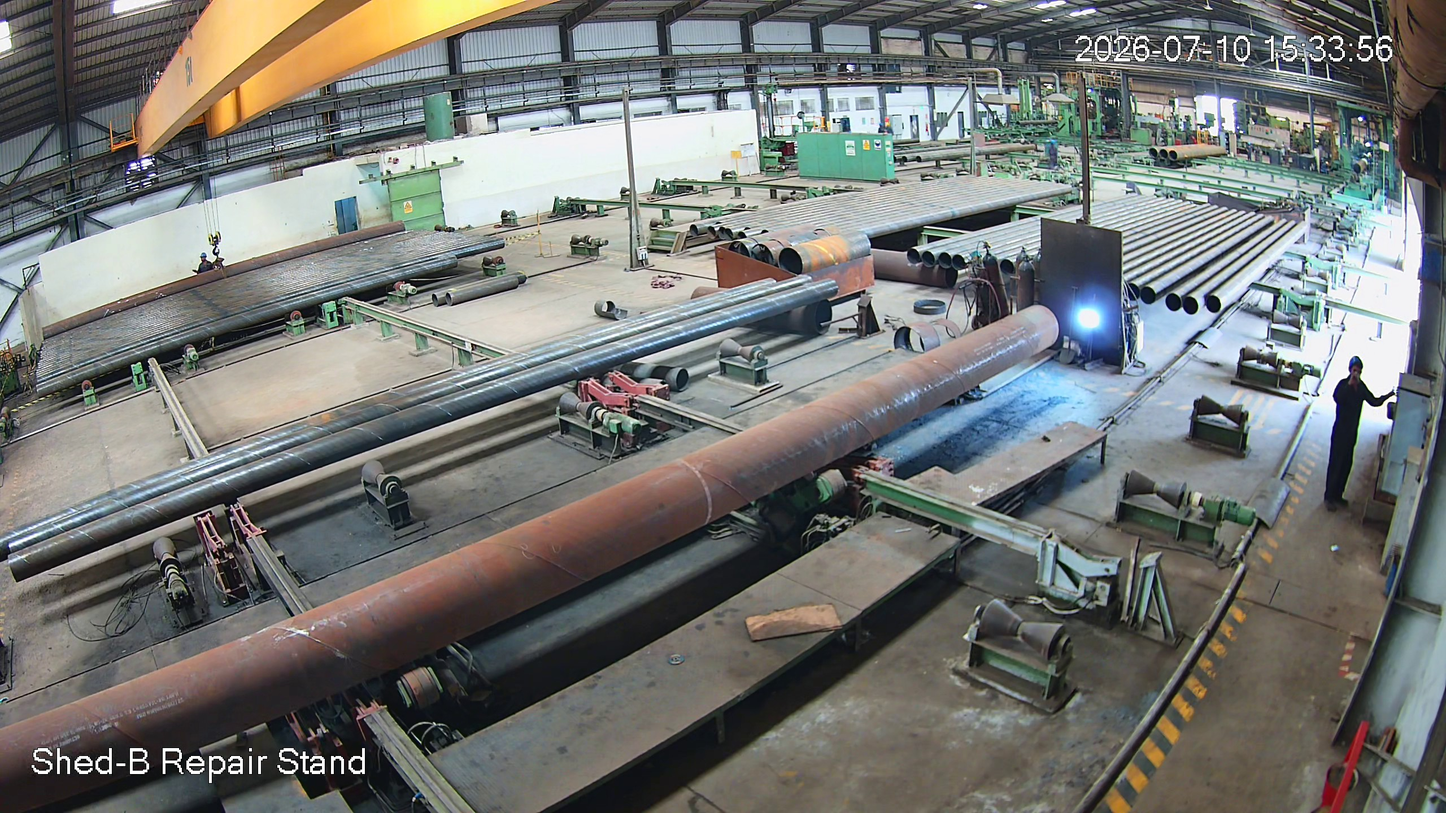Helmet: (1342, 346, 1386, 396)
Person: (1319, 351, 1374, 522)
